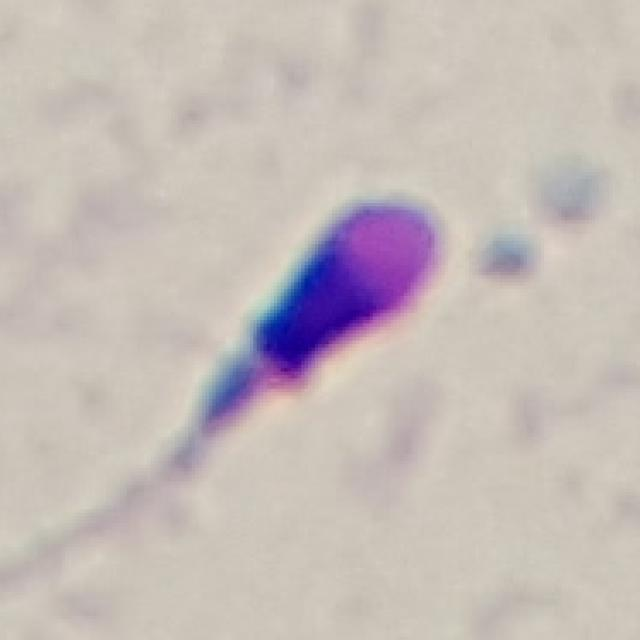abnormal sperm: (126, 176, 456, 523)
